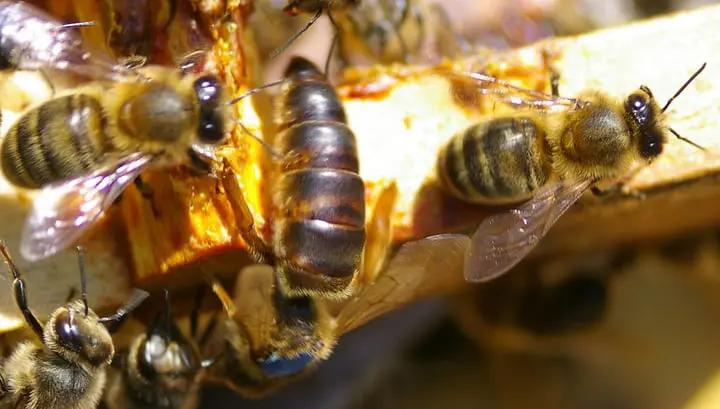Queen-Bee: (212, 57, 397, 395)
worker-bee: (435, 63, 705, 281), (0, 57, 239, 260), (0, 241, 148, 408)
